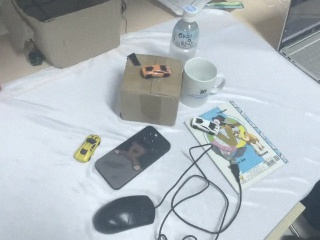book: (184, 98, 289, 190)
bottle: (168, 4, 200, 64)
box: (1, 1, 124, 69), (119, 52, 182, 126)
cup: (179, 56, 220, 109)
mouse: (92, 195, 156, 235)
phone: (94, 125, 172, 192)
toy_car: (73, 133, 101, 163), (190, 110, 220, 136), (140, 60, 173, 81)
